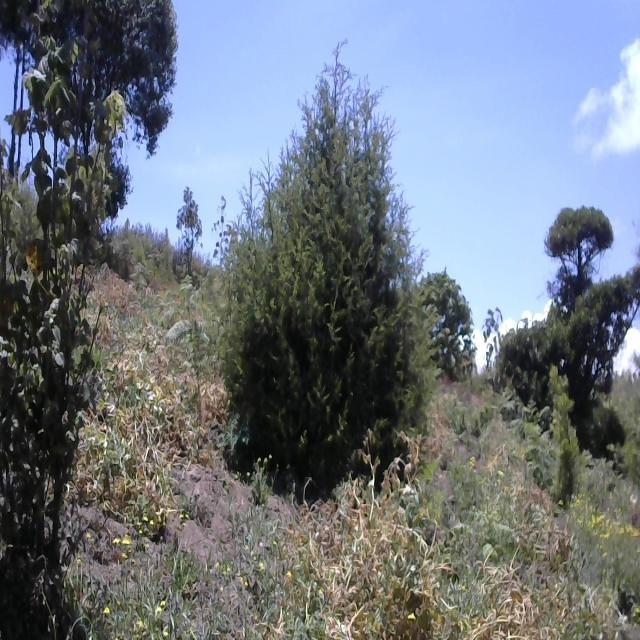cedrus: (212, 53, 436, 507)
other: (0, 2, 120, 626)
